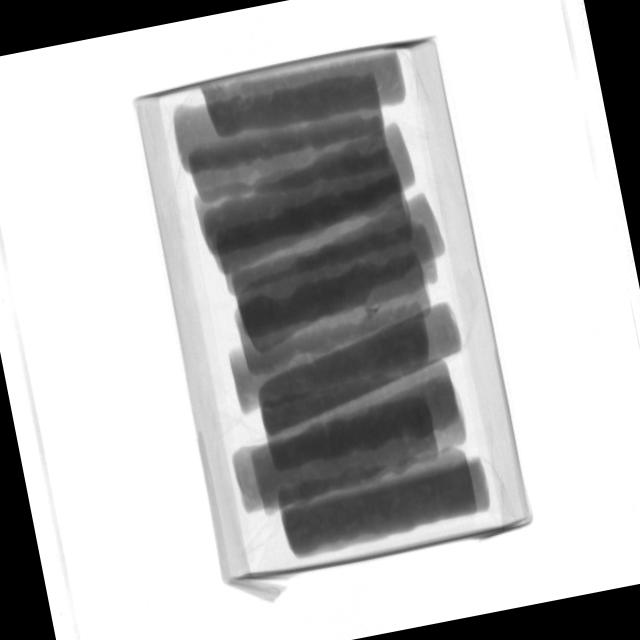ym: (362, 299, 387, 326)
